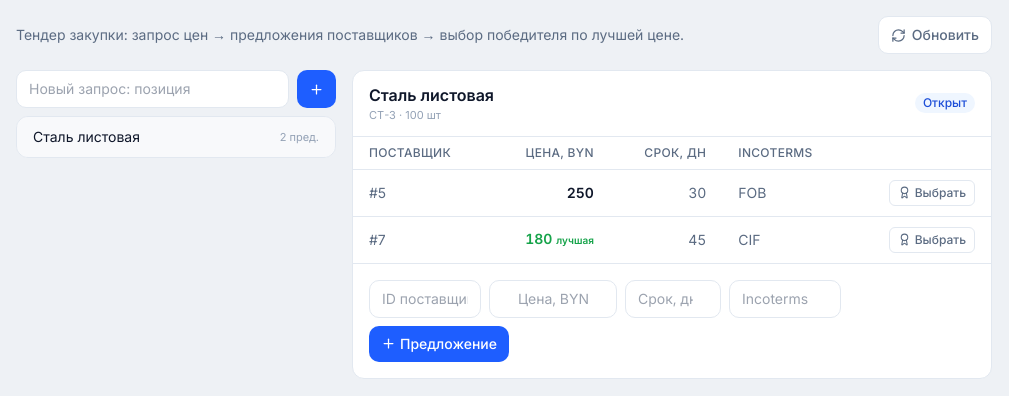
Scenario: ProcurementRfqView › создание запроса зовёт createRfq и показывает новую карточку после обновления
In the field with placeholder "Новый запрос: позиция": (152, 89) [16, 70, 289, 108], type "Кабель ВВГ"
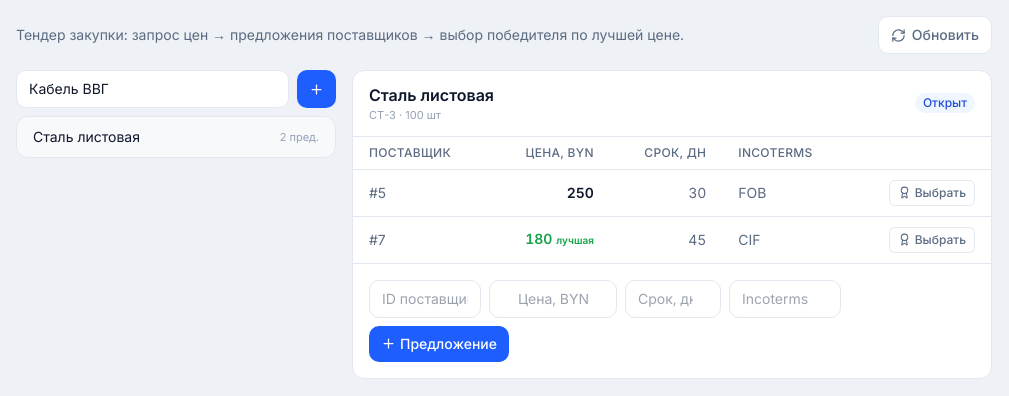
Click the 2nd button: (316, 89) [297, 70, 336, 108]
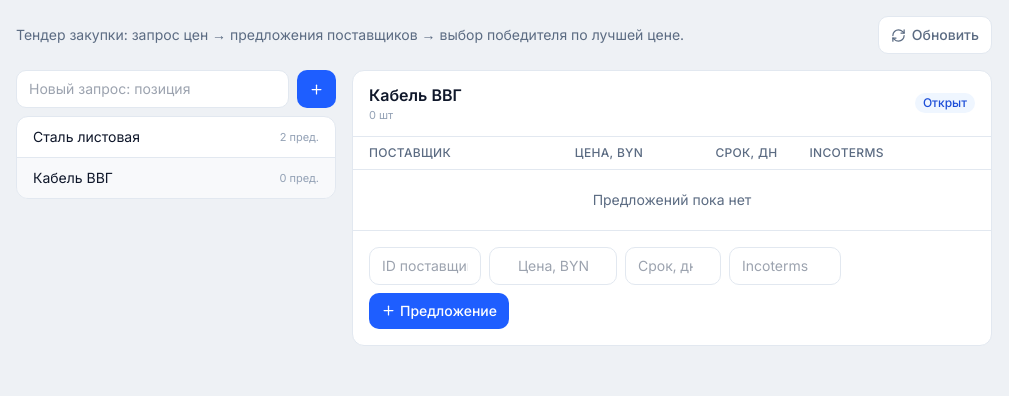
Check: the 2nd text "Кабель ВВГ" is shown, box [33, 168, 113, 188]
Check: the field with placeholder "Новый запрос: позиция" is empty, box [16, 70, 289, 108]
